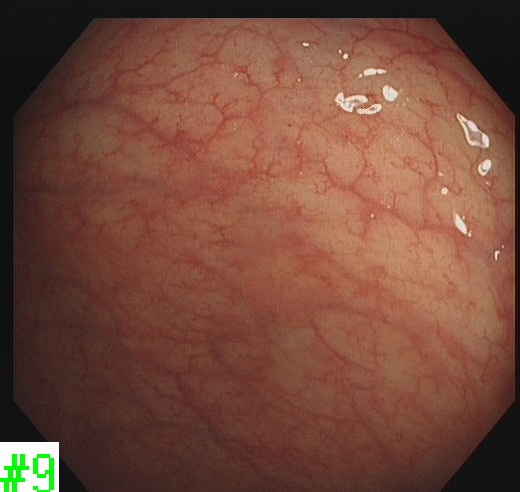others: (238, 264, 317, 326)
